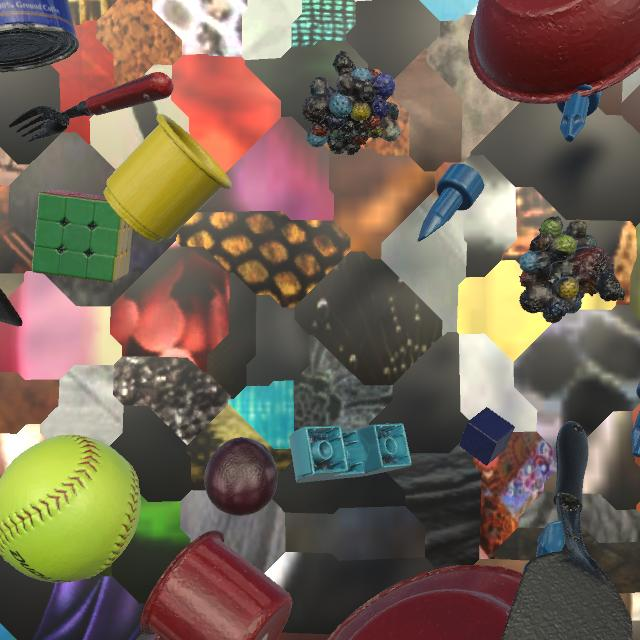ycb_002_master_chef_can: (0, 0, 79, 72)
ycb_018_plum: (204, 437, 278, 516)
